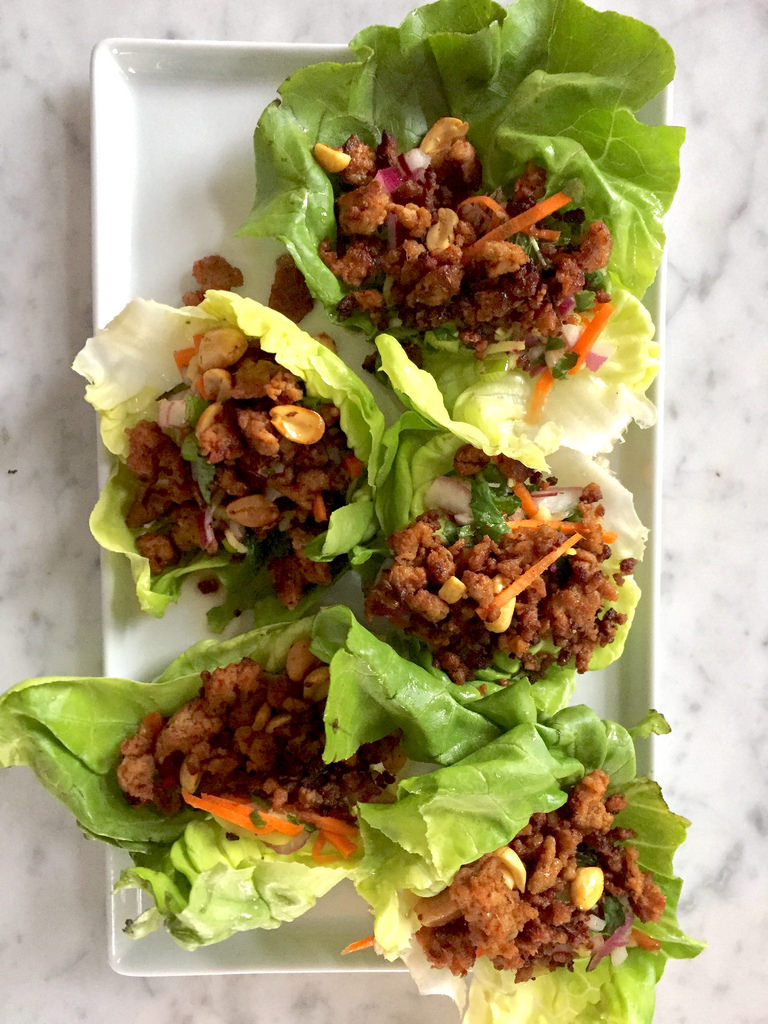chopped lettuce: (341, 646, 560, 837), (370, 35, 670, 169), (34, 660, 159, 954)
